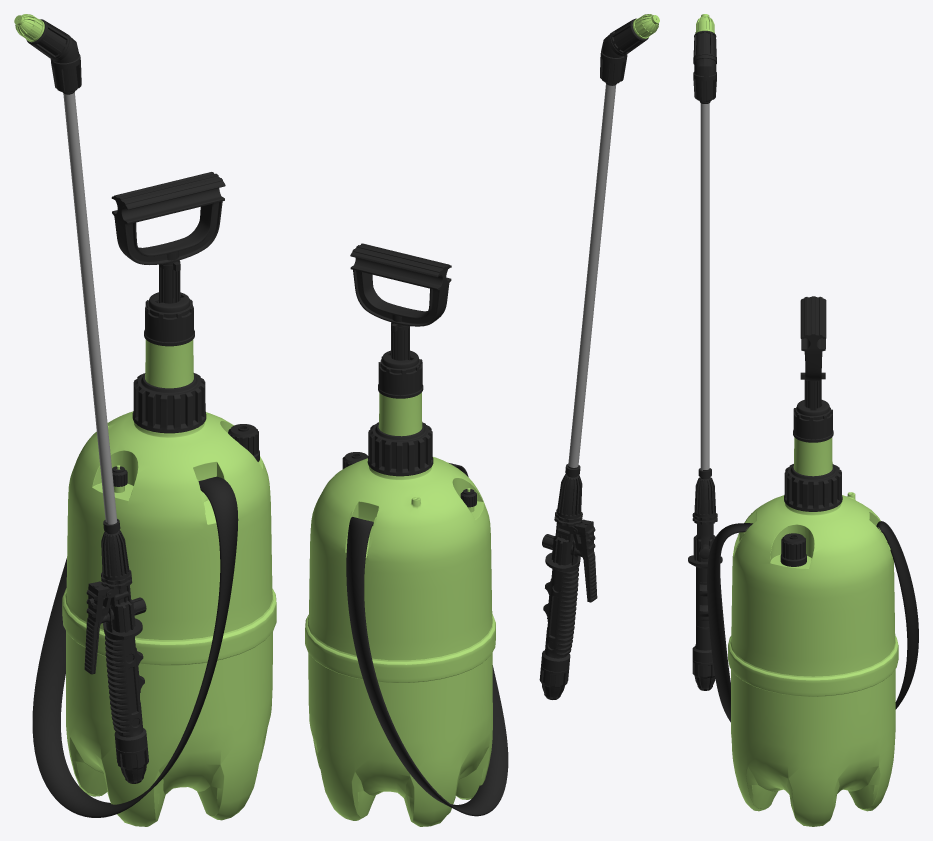
The model's file is pul.fbx.
3 renders of one model, left to right at view 1: azimuth 30°, elevation 25°; view 2: azimuth 150°, elevation 25°; view 3: azimuth 270°, elevation 25°, orthographic. The views are drawn at different scales.
Parts seen in each view (by area): view 1: Circle, Cylinder.003, NurbsPath.001; view 2: Circle, Cylinder.003, NurbsPath.001; view 3: Circle, Cylinder.003, NurbsPath.001.
Boxes of the visible parts, box(x1,y1,x2,y2) form: Circle: box(62, 172, 276, 826); Cylinder.003: box(14, 14, 148, 783); NurbsPath.001: box(32, 476, 238, 817); Circle: box(305, 243, 495, 826); Cylinder.003: box(539, 14, 659, 699); NurbsPath.001: box(346, 463, 508, 816); Circle: box(728, 296, 898, 826); Cylinder.003: box(688, 14, 722, 690); NurbsPath.001: box(707, 521, 918, 722).
Size of the model in its own units: 209 by 560 by 167.
